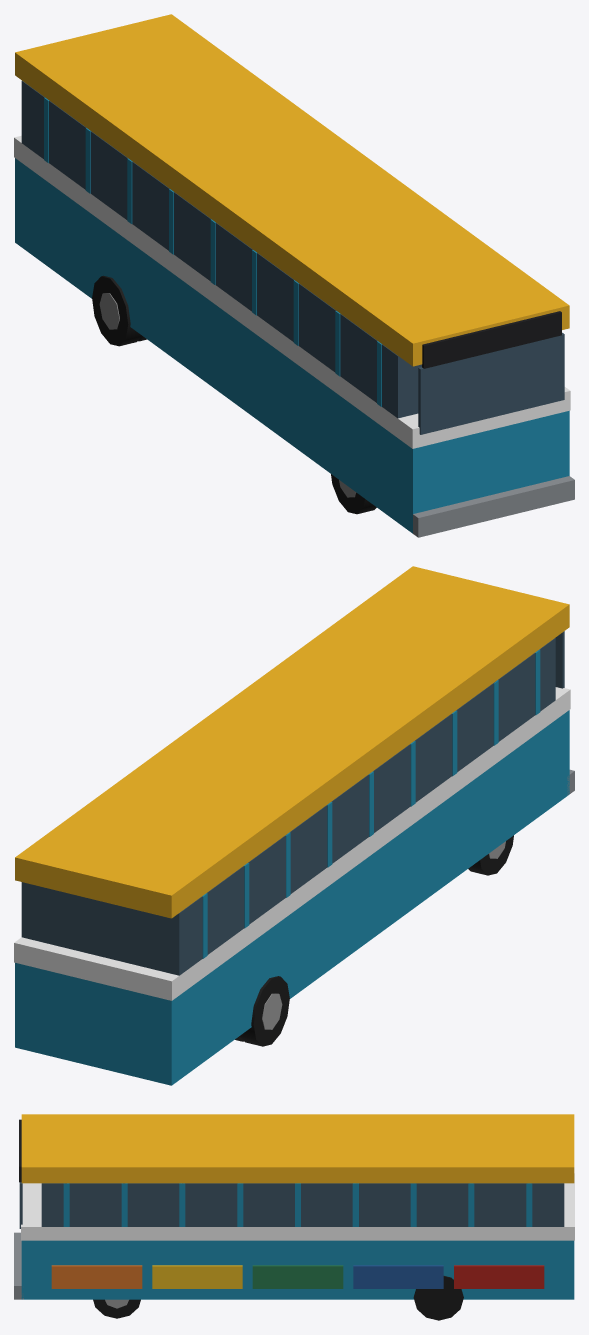
File: bus_private.glb
3 renders of one model, top to bottom at view 1: azimuth 30°, elevation 25°; view 2: azimuth 150°, elevation 25°; view 3: azimuth 270°, elevation 25°, orthographic. The views are drawn at different scales.
Parts seen in each view (by area): view 1: bus_private, wheel_RL, wheel_FL; view 2: bus_private, wheel_RL, wheel_FL; view 3: bus_private, wheel_RR, wheel_FR.
Boxes of the visible parts, bbox=[...] form: bus_private: bbox=[14, 14, 574, 537]; wheel_RL: bbox=[92, 275, 146, 346]; wheel_FL: bbox=[331, 474, 376, 514]; bus_private: bbox=[14, 566, 574, 1085]; wheel_RL: bbox=[235, 976, 289, 1046]; wheel_FL: bbox=[468, 835, 513, 875]; bus_private: bbox=[14, 1114, 574, 1299]; wheel_RR: bbox=[413, 1276, 463, 1320]; wheel_FR: bbox=[93, 1299, 140, 1318].
Bounding box in the file's own units: 2.59 × 3.35 × 11.16.
